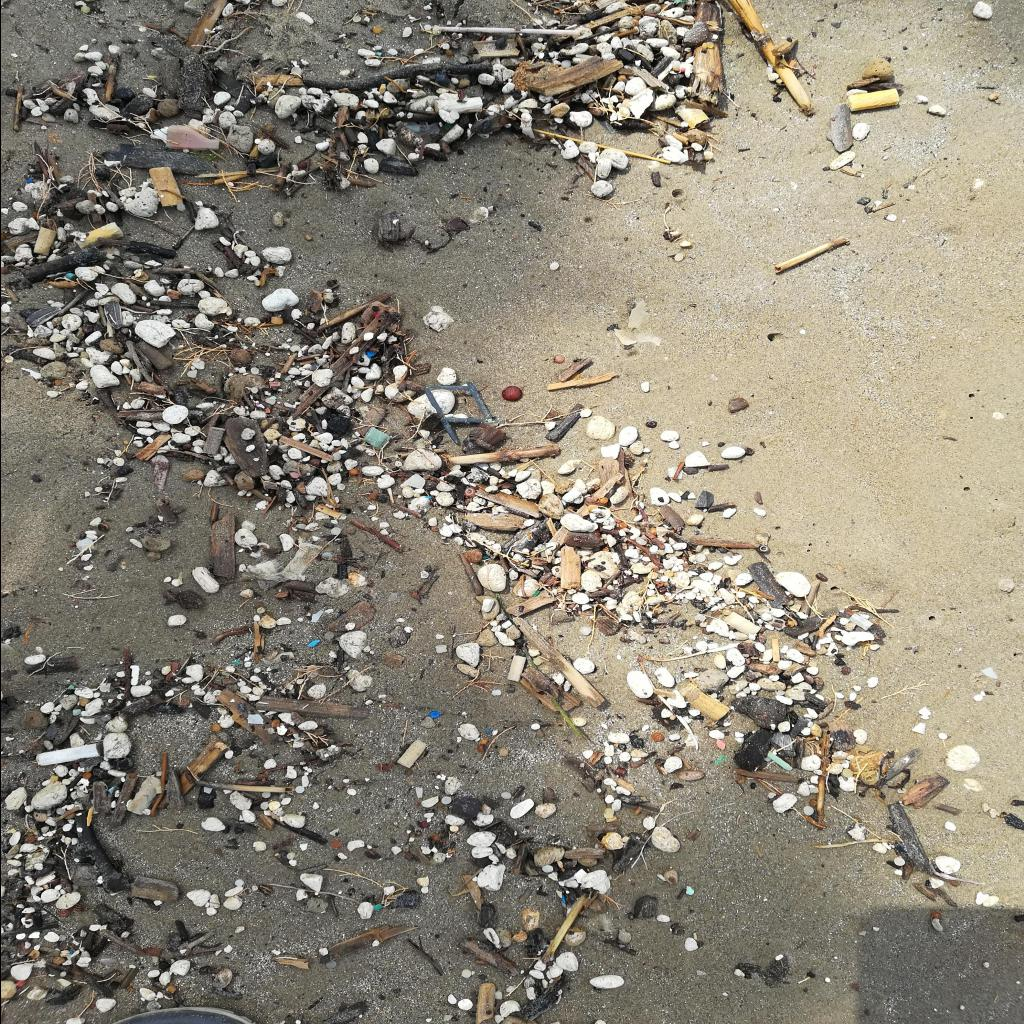Cigarette: (72, 222, 124, 252), (438, 26, 578, 36), (148, 166, 182, 206), (847, 88, 899, 110), (434, 96, 482, 112), (33, 227, 54, 253)
Other plastic wrapper: (34, 743, 98, 766), (164, 126, 218, 150), (361, 428, 391, 450), (768, 751, 793, 771), (716, 738, 726, 750), (62, 272, 76, 280), (428, 710, 438, 718), (307, 641, 319, 647), (288, 472, 300, 478), (366, 352, 376, 358)
Unlabeled litter: (424, 382, 492, 446)
